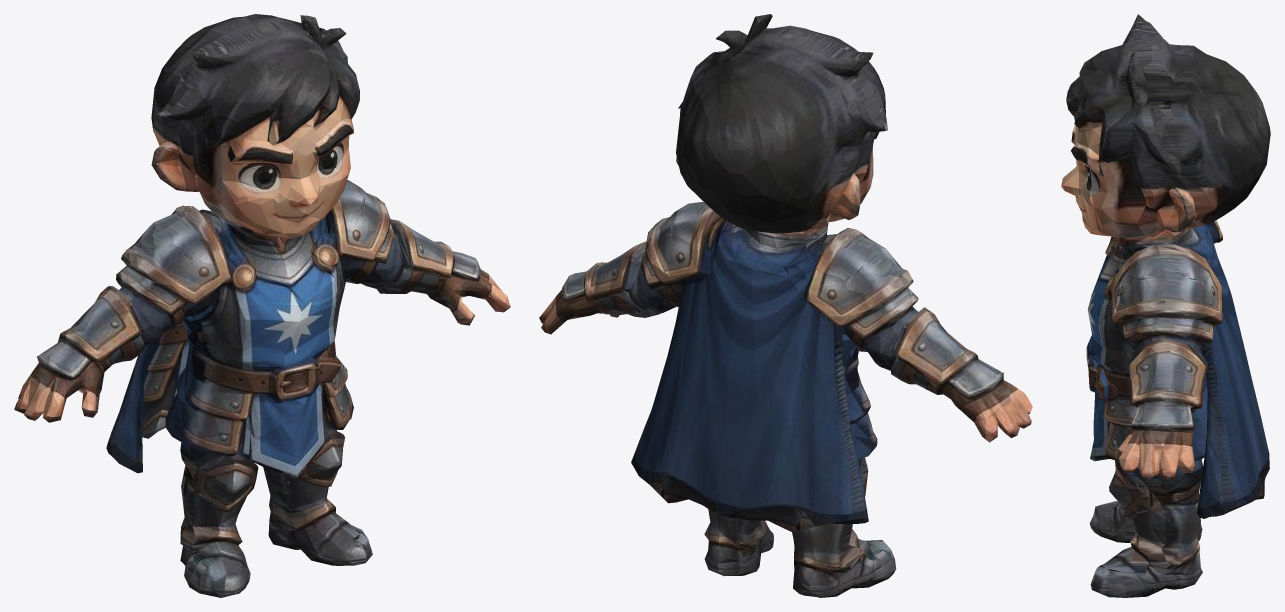
Rendered from v_demir.glb.
3 views of the same model, side by side, from view 1: azimuth 30°, elevation 25°; view 2: azimuth 150°, elevation 25°; view 3: azimuth 270°, elevation 25° (orthographic). The views are drawn at different scales.
Parts seen in each view (by area): view 1: geometry_0; view 2: geometry_0; view 3: geometry_0.
Part boxes in pixels (x1,y1,x2,y2): geometry_0: (14,14,510,597); geometry_0: (539,14,1032,597); geometry_0: (1061,14,1270,597).
Bounding box in the file's own units: 0.9288 × 1 × 0.3655.
1 material, 1 textured.
